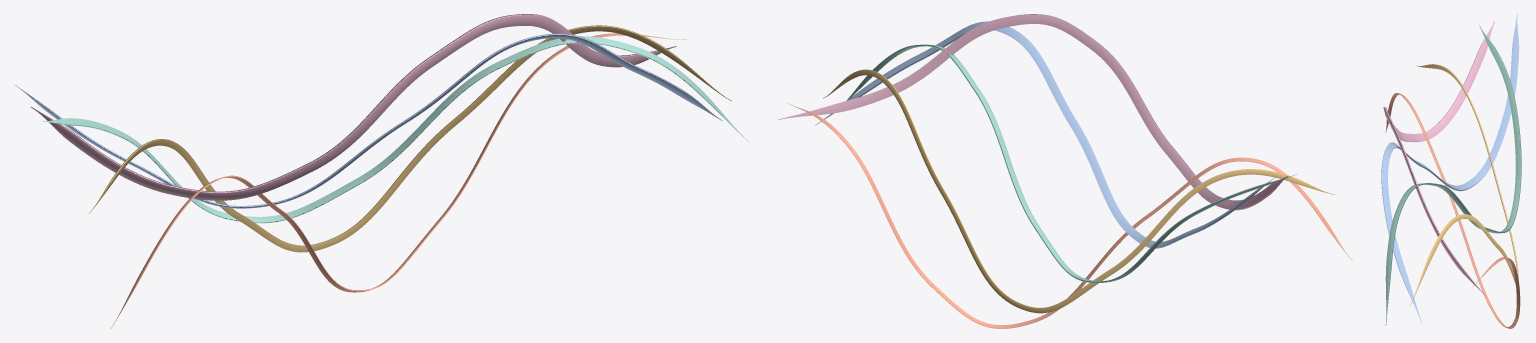
File: ribbon-bloom.glb
The picture shows the model from 3 angles, left to right: view 1: azimuth 30°, elevation 25°; view 2: azimuth 150°, elevation 25°; view 3: azimuth 270°, elevation 25°; orthographic projection. The views are drawn at different scales.
Parts seen in each view (by area): view 1: Ribbon 5, Ribbon 3, Ribbon 2, Ribbon 4, Ribbon 1; view 2: Ribbon 5, Ribbon 4, Ribbon 2, Ribbon 3, Ribbon 1; view 3: Ribbon 4, Ribbon 3, Ribbon 5, Ribbon 2, Ribbon 1.
Part boxes in pixels (<box>): Ribbon 5: <box>31,14,676,200</box>; Ribbon 3: <box>42,36,749,223</box>; Ribbon 2: <box>89,25,731,252</box>; Ribbon 4: <box>15,33,722,208</box>; Ribbon 1: <box>111,33,686,328</box>; Ribbon 5: <box>778,14,1288,210</box>; Ribbon 4: <box>815,21,1274,248</box>; Ribbon 2: <box>823,69,1334,313</box>; Ribbon 3: <box>846,44,1297,283</box>; Ribbon 1: <box>786,102,1352,328</box>; Ribbon 4: <box>1381,14,1519,324</box>; Ribbon 3: <box>1385,25,1521,325</box>; Ribbon 5: <box>1383,21,1495,296</box>; Ribbon 2: <box>1409,64,1518,306</box>; Ribbon 1: <box>1385,93,1520,328</box>.
Bounding box in the file's own units: 0.4202 × 0.2016 × 0.1165.
